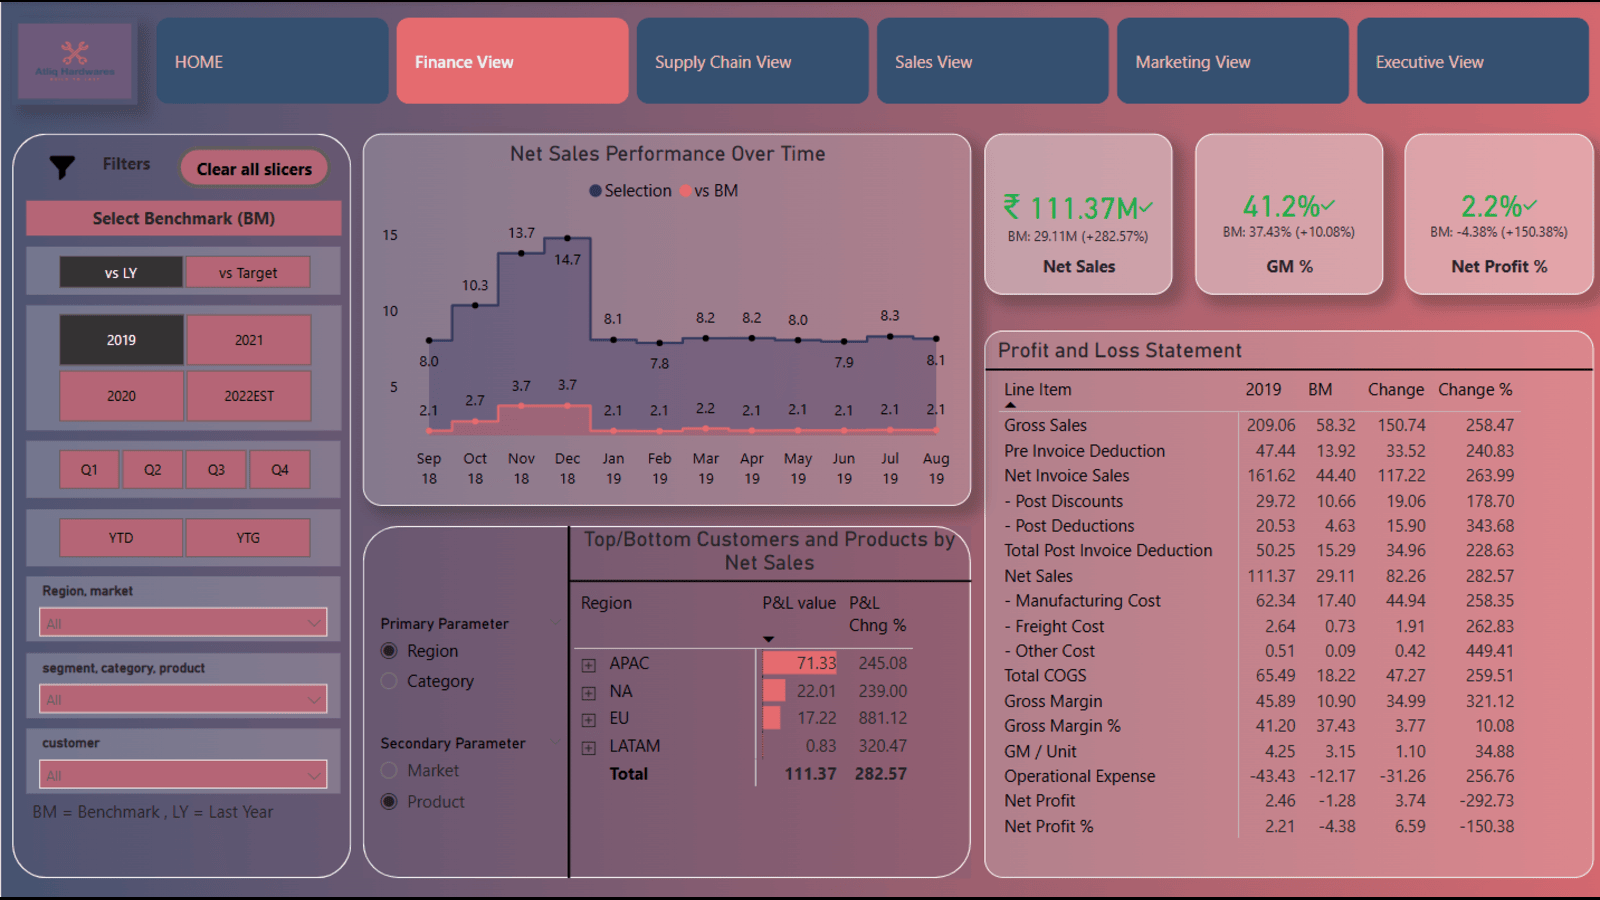

The dashboard page shown, as its layout file describes it:
{"tool":"powerbi","page":{"name":"Finance View","canvas":[1280,720],"ordinal":1},"visuals":[{"type":"shape","box":[289.5,419.8,486,281.4],"z":0},{"type":"shape","box":[9.3,105.8,270.9,595.4],"z":2000},{"type":"pivotTable","title":"Profit and Loss Statement","fields":{"Rows":["P & L Rows.Line Item"],"Values":["Key_Measures.P & L final value"],"Columns":["P&L Columns.Col headers"]},"box":[786,264,487.2,437.2],"z":3000},{"type":"slicer","fields":{"Values":["Fiscal_year.Fy_desc"]},"box":[19.8,243.2,252.3,100],"z":4000},{"type":"slicer","fields":{"Values":["dim_date.Quarters"]},"box":[19.8,352,251.2,45.3],"z":5000},{"type":"slicer","fields":{"Values":["dim_date.ytd_ytg"]},"box":[19.8,406.1,251.2,45.3],"z":6000},{"type":"areaChart","fields":{"Category":["dim_date.date"],"Y":["Key_Measures.P&L value","Key_Measures.P & L BM"]},"box":[289.5,105.8,486,297.7],"z":7000},{"type":"pivotTable","title":"Top/Bottom Customers and Products by Net Sales","fields":{"Rows":["dim_market.Region","dim_product.product","dim_customer.customer"],"Values":["Key_Measures.P&L value","Key_Measures.P&L YoY chng %"]},"box":[453.5,419.8,322.1,281.4],"z":8000},{"type":"slicer","fields":{"Values":["dim_customer.customer"]},"box":[19.8,581.9,251.2,52.3],"z":9000},{"type":"slicer","fields":{"Values":["dim_product.segment","dim_product.category","dim_product.product"]},"box":[19.8,521.1,251.2,52],"z":10000},{"type":"slicer","fields":{"Values":["dim_market.region","dim_market.market"]},"box":[19.8,460.3,251.2,52],"z":11000},{"type":"kpi","fields":{"Indicator":["Key_Measures.Net_Sales"],"TrendLine":["dim_date.Fiscal_year"],"Goal":["Key_Measures.Net Sales BM"]},"box":[786,105.8,150,129.1],"z":12000},{"type":"kpi","fields":{"TrendLine":["dim_date.Fiscal_year"],"Goal":["Key_Measures.GM % BM"],"Indicator":["Key_Measures.Gross Marjin %"]},"box":[954.7,105.8,150,129.1],"z":13000},{"type":"kpi","fields":{"TrendLine":["dim_date.Fiscal_year"],"Goal":["Key_Measures.NetProfit % BM"],"Indicator":["Key_Measures.Net Profit %"]},"box":[1122.1,105.8,151.2,129.1],"z":14000},{"type":"pageNavigator","title":"Menu Buttons","box":[124.4,14,1148.8,69.8],"z":15000},{"type":"textbox","box":[19.8,633.7,241.9,30.2],"z":16000},{"type":"slicer","fields":{"Values":["Set BM.Benchmark"]},"box":[19.8,196,251.2,38.4],"z":17000},{"type":"actionButton","box":[140.7,116.3,123.3,33.7],"z":18000},{"type":"image","box":[19.8,116.3,57,33.7],"z":19000},{"type":"textbox","box":[68.6,116.3,64,33.7],"z":20000},{"type":"textbox","box":[19.8,159.3,252.3,27.9],"z":21000},{"type":"slicer","fields":{"Values":["Primary Parameter.Primary Parameter"]},"box":[290.7,486,170.9,79.1],"z":22000},{"type":"slicer","fields":{"Values":["Secondary Parameter.Secondary Parameter"]},"box":[290.7,581.4,170.9,79.1],"z":23000},{"type":"textbox","box":[812.8,197.7,97.7,37.2],"z":24000},{"type":"textbox","box":[981.4,197.7,97.7,36],"z":25000},{"type":"textbox","box":[1148.8,197.7,97.7,37.2],"z":26000},{"type":"shape","box":[437.2,419.8,32.6,281.4],"z":27000},{"type":"image","box":[9.3,14,100,69.8],"z":28000}]}

Visuals, with their boxes in screenshot pixels (x1, y1, x2, y2), scaled from the page's 1280x720 canvas onto the 1600x900 screenshot:
shape: 362/525/969/876
shape: 12/132/350/876
"Profit and Loss Statement" pivotTable: 982/330/1592/876
slicer - Fiscal_year.Fy_desc: 25/304/340/429
slicer - dim_date.Quarters: 25/440/339/497
slicer - dim_date.ytd_ytg: 25/508/339/564
areaChart - dim_date.date x Key_Measures.P&L value: 362/132/969/504
"Top/Bottom Customers and Products by Net Sales" pivotTable: 567/525/970/876
slicer - dim_customer.customer: 25/727/339/793
slicer - dim_product.segment x dim_product.category: 25/651/339/716
slicer - dim_market.region x dim_market.market: 25/575/339/640
kpi - Key_Measures.Net_Sales x dim_date.Fiscal_year: 982/132/1170/294
kpi - dim_date.Fiscal_year x Key_Measures.GM % BM: 1193/132/1381/294
kpi - dim_date.Fiscal_year x Key_Measures.NetProfit % BM: 1403/132/1592/294
"Menu Buttons" pageNavigator: 156/18/1592/105
textbox: 25/792/327/830
slicer - Set BM.Benchmark: 25/245/339/293
actionButton: 176/145/330/188
image: 25/145/96/188
textbox: 86/145/166/188
textbox: 25/199/340/234
slicer - Primary Parameter.Primary Parameter: 363/608/577/706
slicer - Secondary Parameter.Secondary Parameter: 363/727/577/826
textbox: 1016/247/1138/294
textbox: 1227/247/1349/292
textbox: 1436/247/1558/294
shape: 546/525/587/876
image: 12/18/137/105
